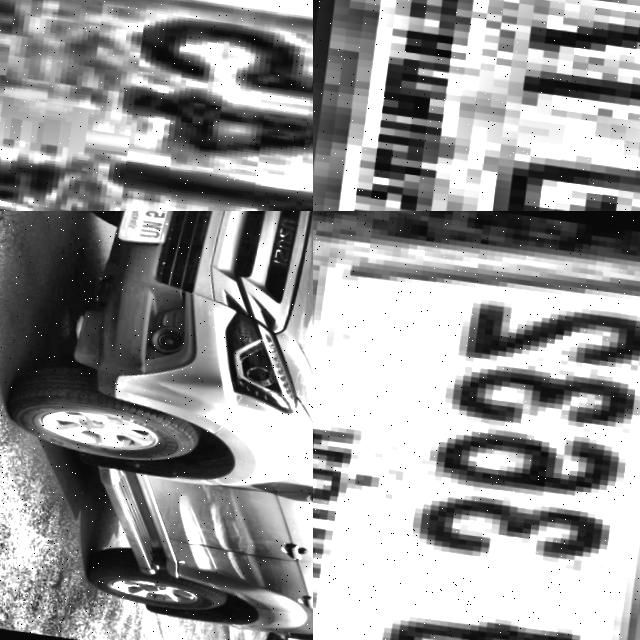license-plate: (313, 211, 640, 640), (313, 0, 640, 211), (0, 0, 313, 211), (114, 211, 180, 247)
